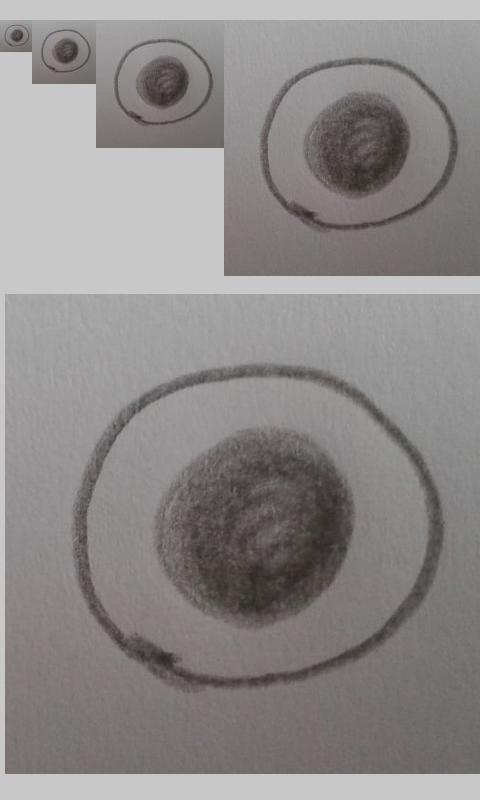radio_button: (70, 359, 445, 697), (259, 55, 460, 235), (114, 38, 214, 127), (40, 28, 91, 74), (4, 24, 30, 48)
